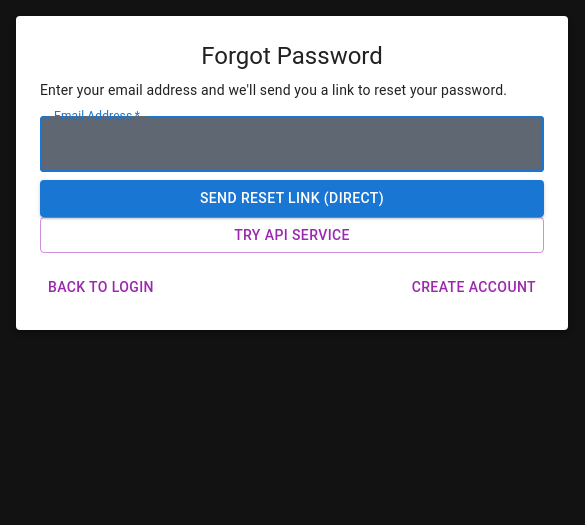
ForgotPassword Page › handles network error in direct password reset request
Enter email
Type "test@example.com" into the field labelled "Email Address *" at (292, 144), box [40, 116, 544, 172]
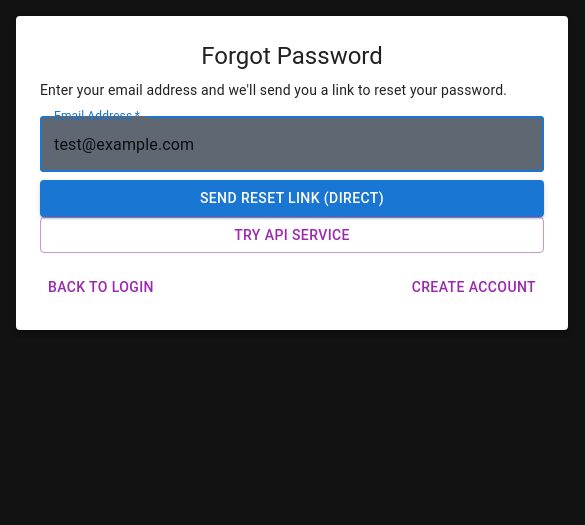
Submit the form
Click the button "Send Reset Link (Direct)" at (292, 198), box [40, 180, 544, 216]
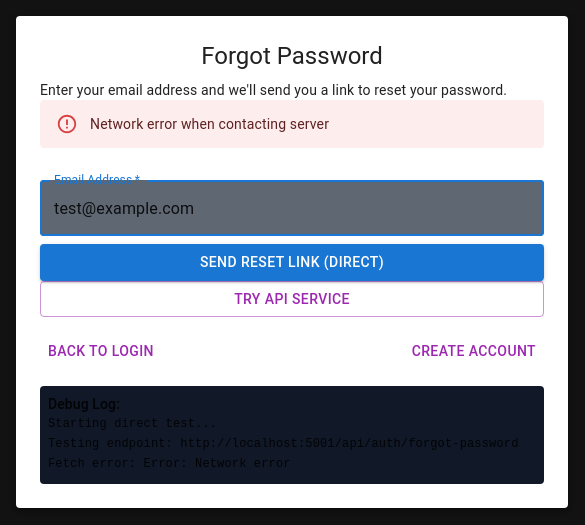
Result: the text "Network error when contacting server" is shown at [90, 116, 329, 132]
